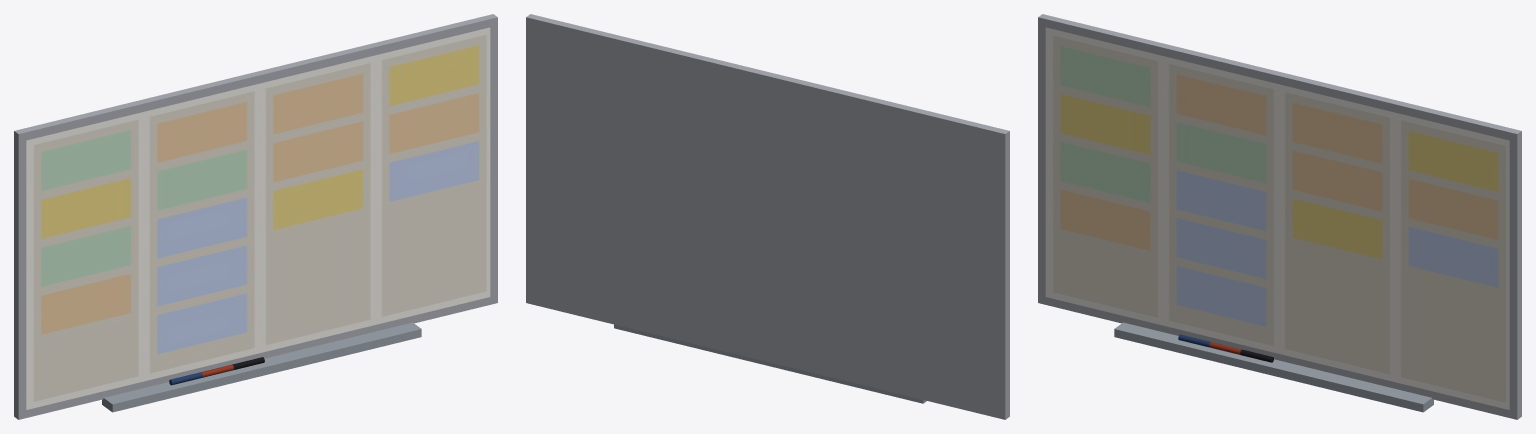
Rendered from quadro-parede.glb.
The picture shows the model from 3 angles, left to right: view 1: azimuth 30°, elevation 25°; view 2: azimuth 150°, elevation 25°; view 3: azimuth 330°, elevation 25°; orthographic projection.
Visible parts, largest first — view 1: quadro-parede_malha; view 2: quadro-parede_malha; view 3: quadro-parede_malha.
Part boxes in pixels (left/top/right/bottom): quadro-parede_malha: left=14, top=14, right=497, bottom=419; quadro-parede_malha: left=526, top=14, right=1009, bottom=419; quadro-parede_malha: left=1038, top=14, right=1521, bottom=419.
Size of the model in its own units: 1.86 by 1.08 by 0.09.
3 materials, 1 textured.
